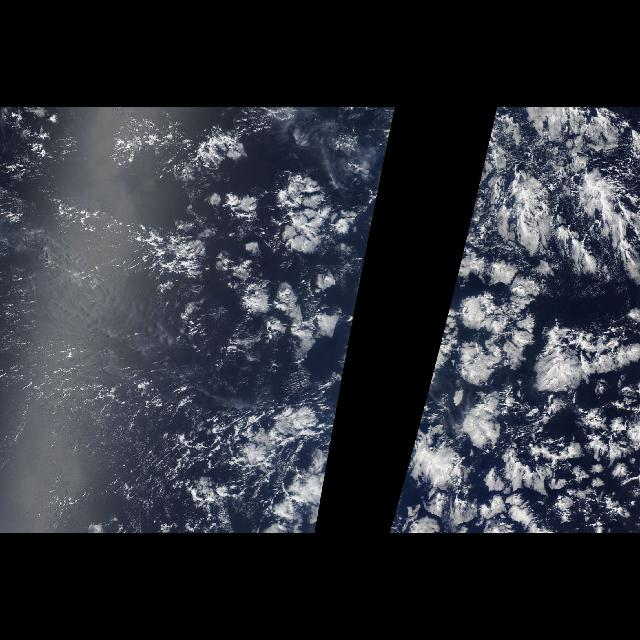Flower: (146, 125, 382, 382), (393, 296, 631, 522)
Sugar: (6, 278, 228, 522)
